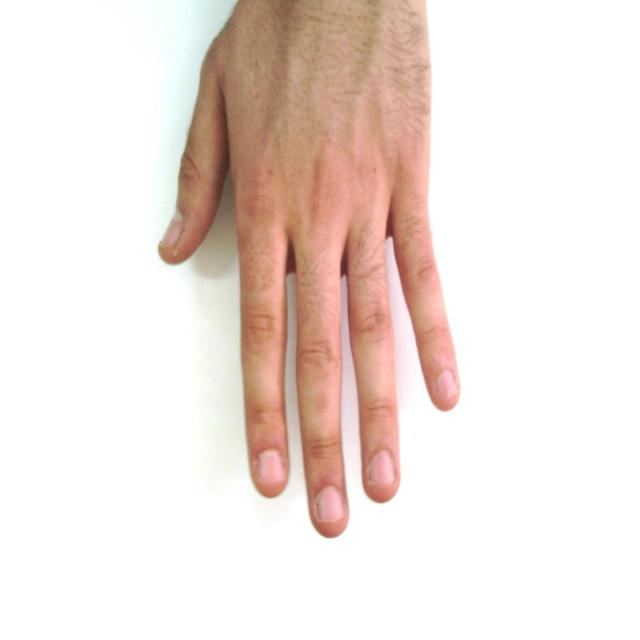others: (156, 0, 464, 542)
